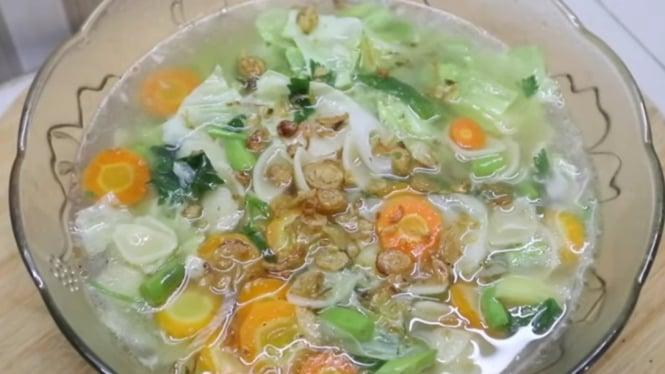buah_sayur_vitA: (253, 307, 306, 355), (385, 200, 435, 245), (94, 150, 142, 196)
